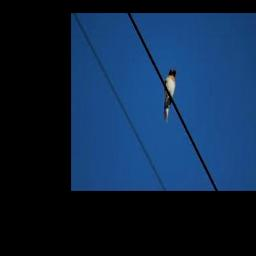Swallow: (162, 68, 176, 122)
